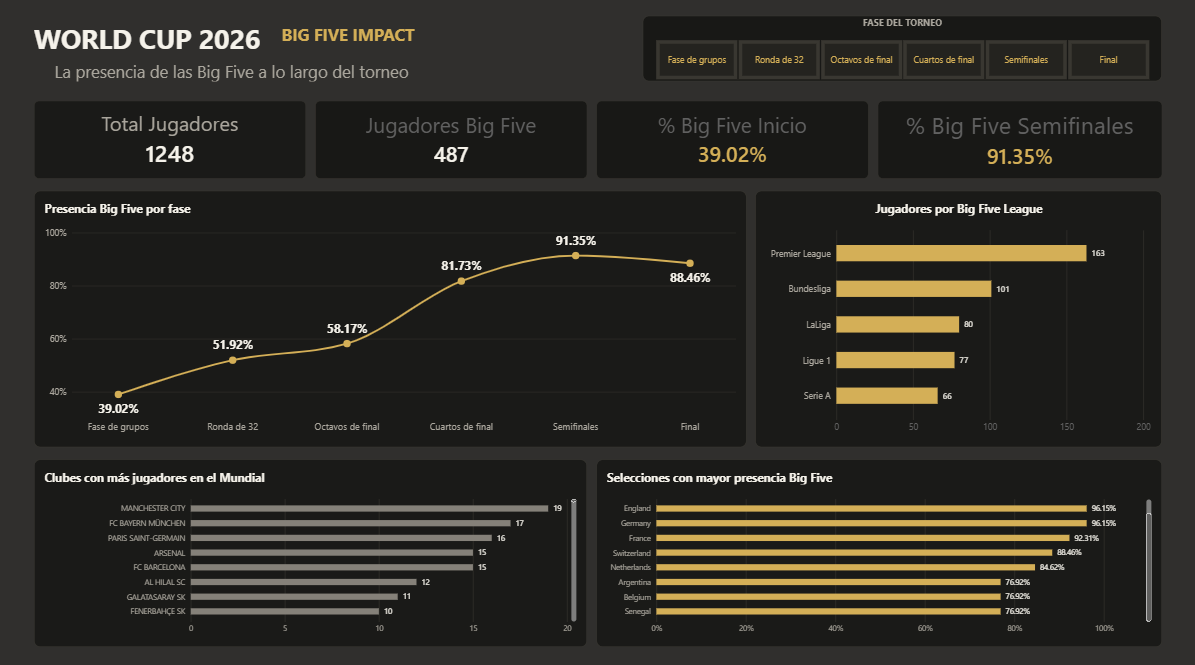

What the dashboard file says about the page in this screenshot:
{"tool":"powerbi","page":{"name":"Big Five Impact","canvas":[1280,1000],"ordinal":0},"visuals":[{"type":"textbox","box":[24,20,1232,68],"z":1000},{"type":"card","title":"Jugadores · contexto actual","fields":{"Values":["Table.Total Jugadores"]},"box":[24,108,290,116],"z":1000},{"type":"card","title":"Big Five · fase seleccionada","fields":{"Values":["Table.Big Five Activos"]},"box":[338,108,290,116],"z":1000},{"type":"card","title":"% Big Five · fase seleccionada","fields":{"Values":["Table.% Big Five Activos"]},"box":[652,108,290,116],"z":1000},{"type":"card","title":"% Big Five · plantilla","fields":{"Values":["Table.% Jugadores Big Five"]},"box":[966,108,290,116],"z":1000},{"type":"slicer","title":"Fase del torneo","fields":{"Values":["Fases Dashboard.Fase"]},"box":[24,244,1232,96],"z":1000},{"type":"lineChart","title":"Evolución Big Five por fase","fields":{"Category":["Fases Dashboard.Fase"],"Y":["Table.% Big Five Activos"]},"box":[24,360,790,300],"z":1000},{"type":"barChart","title":"Aporte por liga · Big Five","fields":{"Category":["catálogo Big Five.League"],"Y":["Table.Big Five Activos"]},"box":[834,360,422,300],"z":1000},{"type":"barChart","title":"Presencia Big Five por selección","fields":{"Category":["fases/resultados.Seleccion"],"Y":["Table.% Jugadores Big Five"]},"box":[24,680,600,296],"z":1000},{"type":"barChart","title":"Clubes con jugadores mundialistas","fields":{"Category":["jugadores.club_team"],"Y":["Table.Total Jugadores"]},"box":[644,680,612,296],"z":1000}]}

Visuals, with their boxes on the page's 1280x1000 design canvas (x1, y1, x2, y2). These are canvas units, not pixel positions in the 1195x665 screenshot, which may show the page scaled, cropped or inside an application window:
textbox: rect(24, 20, 1256, 88)
"Jugadores · contexto actual" card: rect(24, 108, 314, 224)
"Big Five · fase seleccionada" card: rect(338, 108, 628, 224)
"% Big Five · fase seleccionada" card: rect(652, 108, 942, 224)
"% Big Five · plantilla" card: rect(966, 108, 1256, 224)
"Fase del torneo" slicer: rect(24, 244, 1256, 340)
"Evolución Big Five por fase" lineChart: rect(24, 360, 814, 660)
"Aporte por liga · Big Five" barChart: rect(834, 360, 1256, 660)
"Presencia Big Five por selección" barChart: rect(24, 680, 624, 976)
"Clubes con jugadores mundialistas" barChart: rect(644, 680, 1256, 976)
